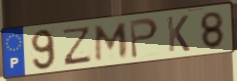8: (197, 10, 226, 49)
9: (28, 28, 57, 72)
K: (166, 14, 192, 54)
M: (93, 21, 129, 63)
P: (128, 16, 160, 61)
Z: (62, 25, 93, 67)
